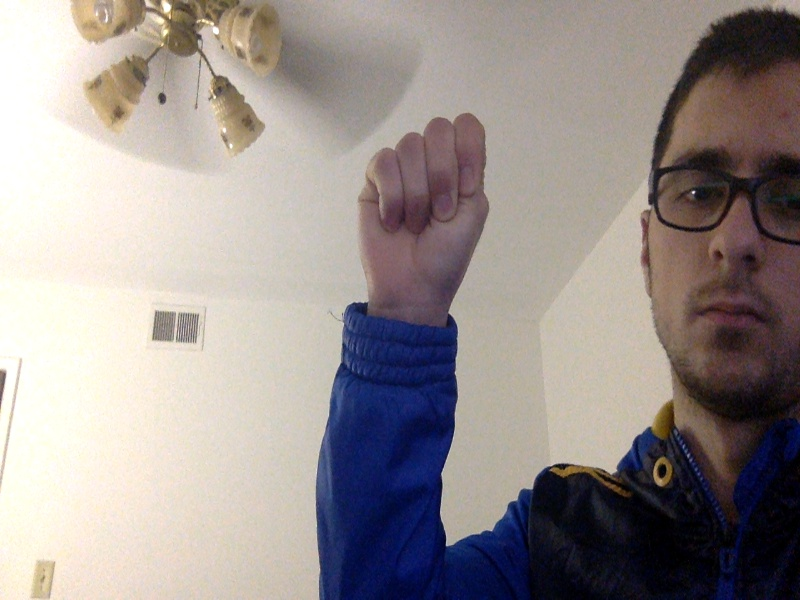0-hand: (355, 112, 491, 297)
